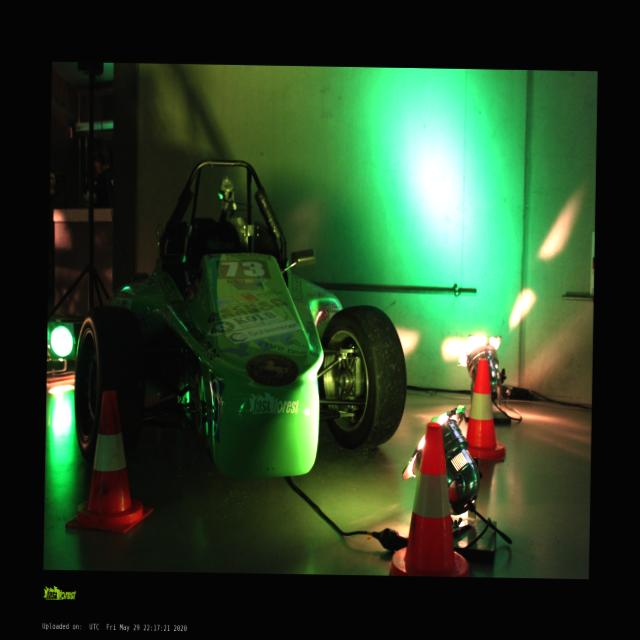orange_cone: (390, 421, 472, 576), (67, 390, 155, 533), (456, 359, 507, 461)
